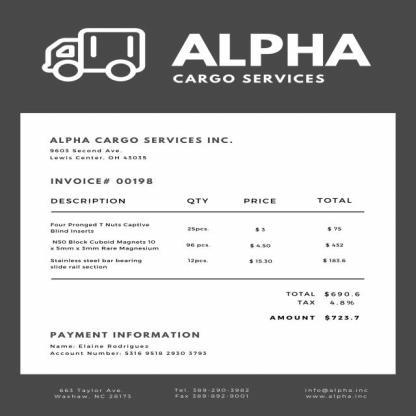Paragraph: (165, 29, 375, 87), (46, 133, 235, 162), (46, 329, 210, 358), (266, 286, 364, 323), (48, 175, 157, 187)
Table: (49, 195, 364, 279)
